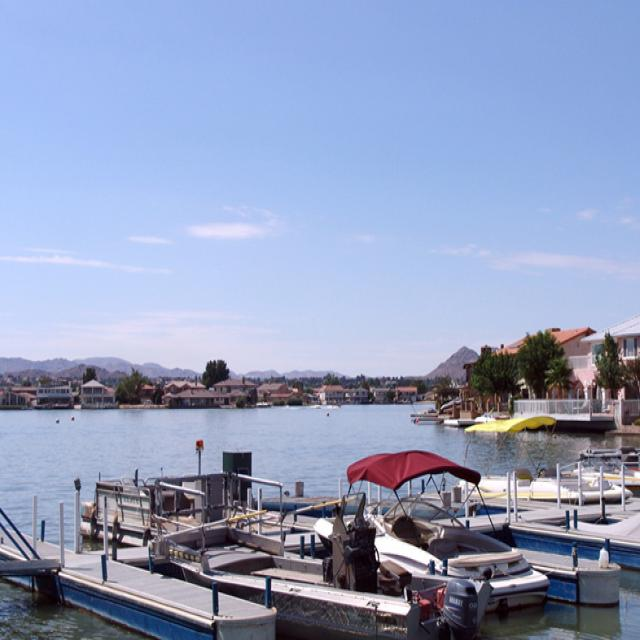houseboat: (335, 498, 524, 597), (506, 534, 600, 610)
